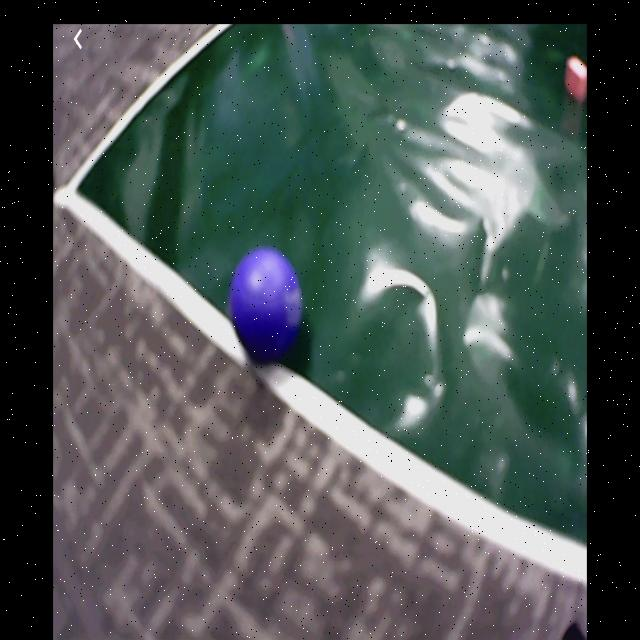ball: (231, 251, 303, 360)
